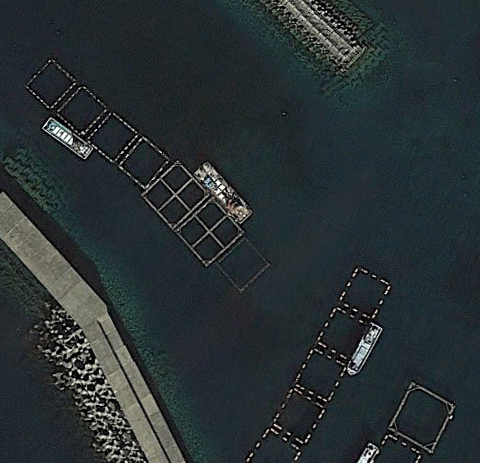ship: (194, 158, 250, 223), (344, 319, 387, 379), (37, 118, 95, 161)
square: (381, 378, 462, 451), (335, 262, 403, 323), (50, 80, 114, 142), (21, 51, 85, 112), (264, 384, 328, 443), (82, 108, 143, 167), (290, 343, 350, 400), (311, 305, 372, 361), (217, 235, 275, 293), (116, 139, 172, 193)
